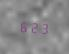six: (18, 18, 27, 33)
three: (39, 20, 48, 34)
two: (29, 19, 38, 34)
